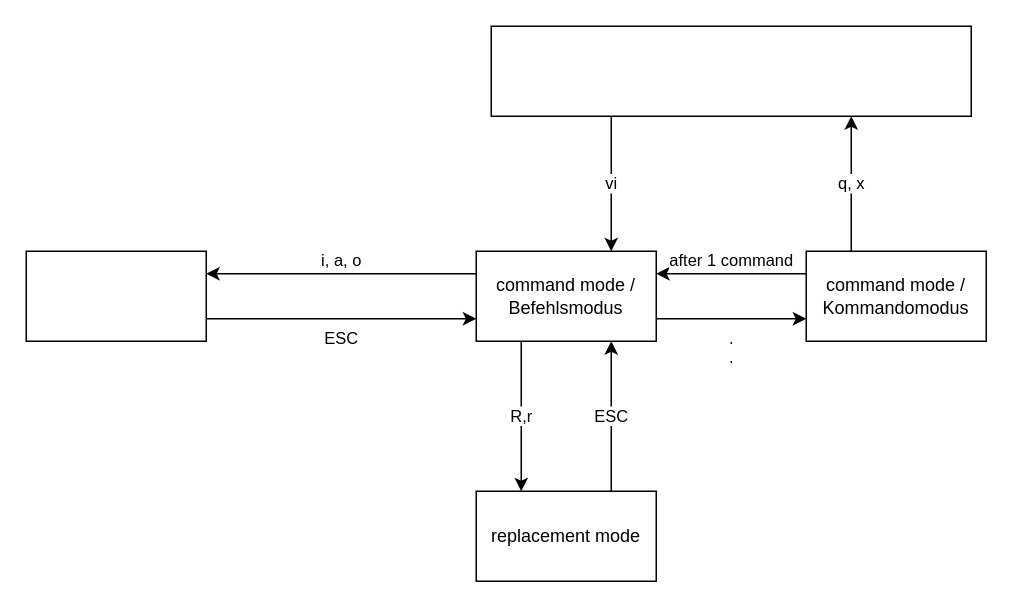
Some shapes in this 1013 by 608 pixel diagram are drawn without their labels. The shapes that lost their labels are listed below. From the top down, each one's centre as x and y in pixels, then its label:
point 730,70: not running
point 115,295: insertion mode
